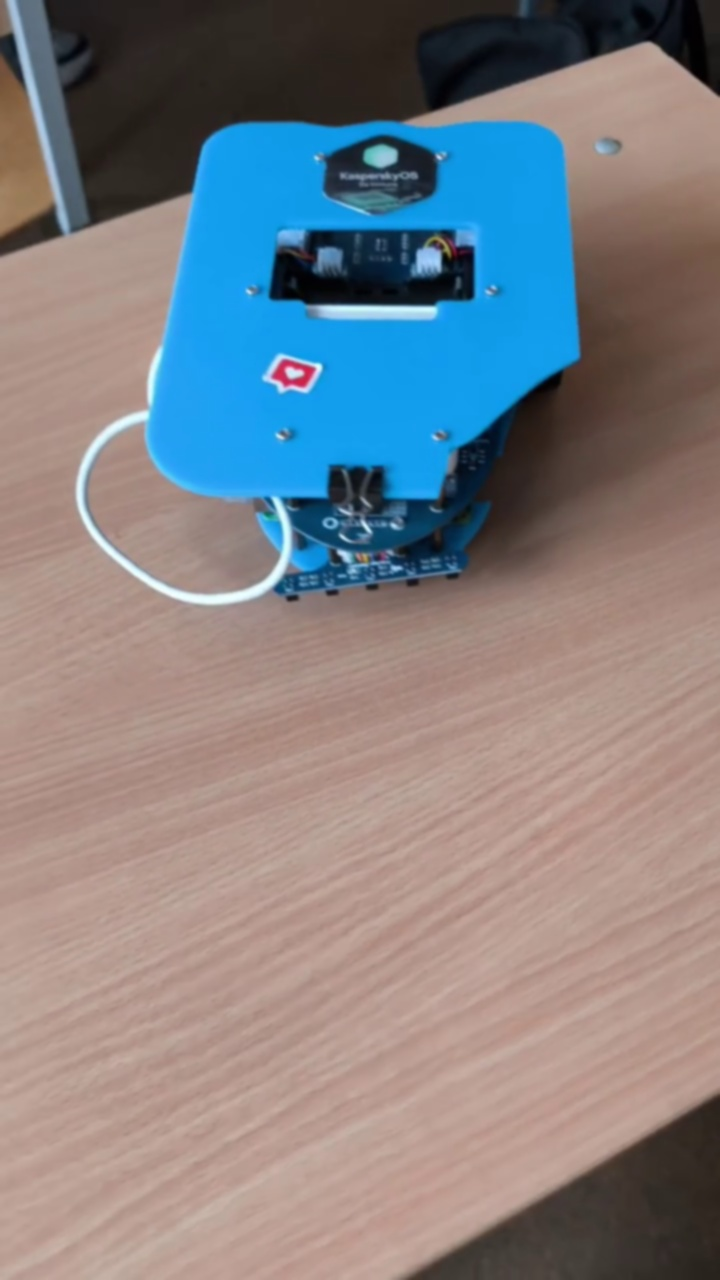robot: (74, 119, 583, 610)
